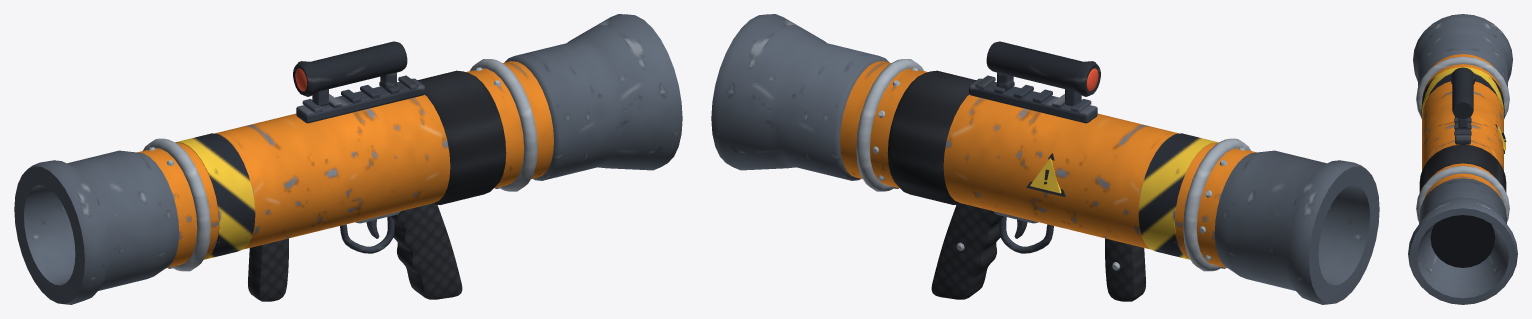
Rendered from FragmentationMissile.fbx.
3 views of the same model, side by side, from view 1: azimuth 30°, elevation 25°; view 2: azimuth 150°, elevation 25°; view 3: azimuth 270°, elevation 25° (orthographic). The views are drawn at different scales.
Parts seen in each view (by area): view 1: FragmentationMissile; view 2: FragmentationMissile; view 3: FragmentationMissile.
Boxes of the visible parts, box(x1,y1,x2,y2) form: FragmentationMissile: box(14, 14, 682, 304); FragmentationMissile: box(711, 14, 1379, 304); FragmentationMissile: box(1408, 14, 1517, 304).
Bounding box in the file's own units: 1.49 × 0.6357 × 0.3484.
Materials: 13 (13 with a texture image).
